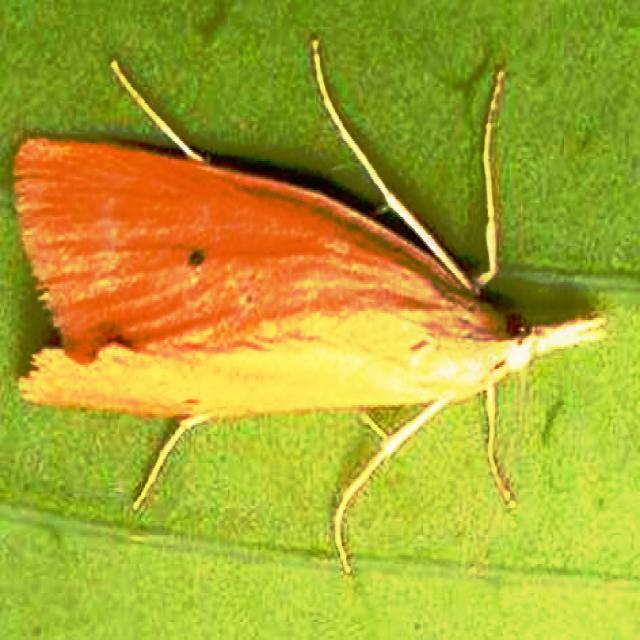stem-borer: (8, 125, 608, 500)
